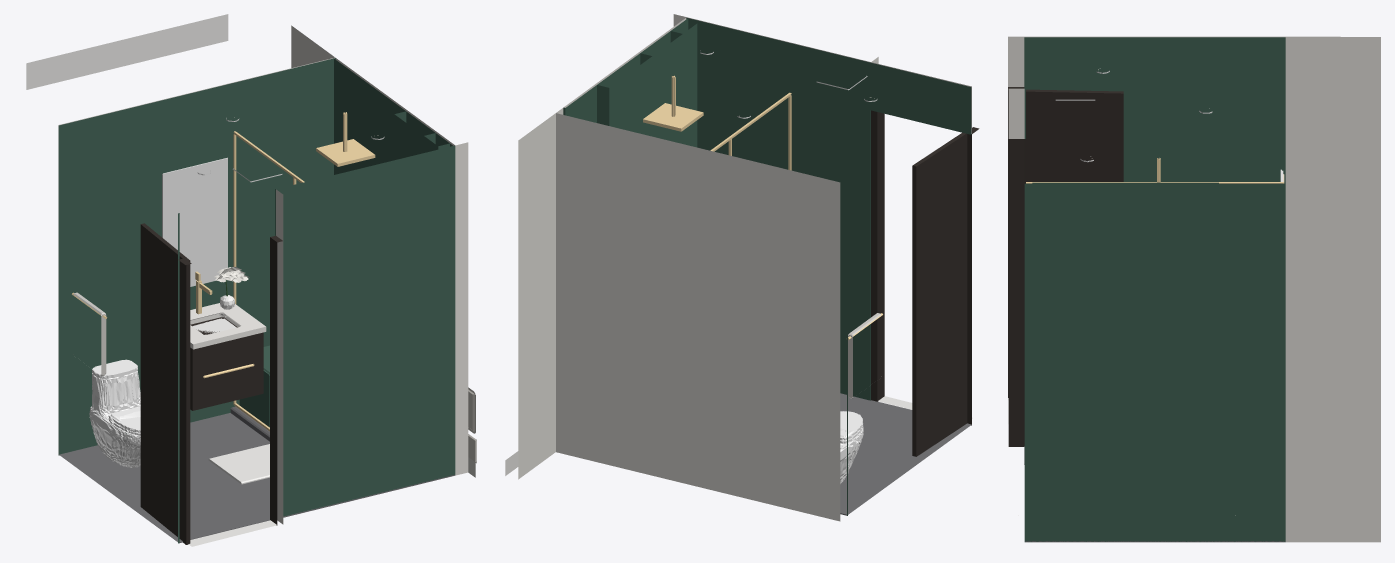
File: CBATH.glb
3 renders of one model, left to right at view 1: azimuth 30°, elevation 25°; view 2: azimuth 150°, elevation 25°; view 3: azimuth 270°, elevation 25°, orthographic. The views are drawn at different scales.
Parts seen in each view (by area): view 1: WEB_CBATH; view 2: WEB_CBATH; view 3: WEB_CBATH.
Part boxes in pixels (x1,y1,x2,y2): WEB_CBATH: (26, 14, 476, 546); WEB_CBATH: (505, 14, 979, 521); WEB_CBATH: (1008, 36, 1380, 542).
Size of the model in its own units: 2.34 by 2.7 by 2.36.
